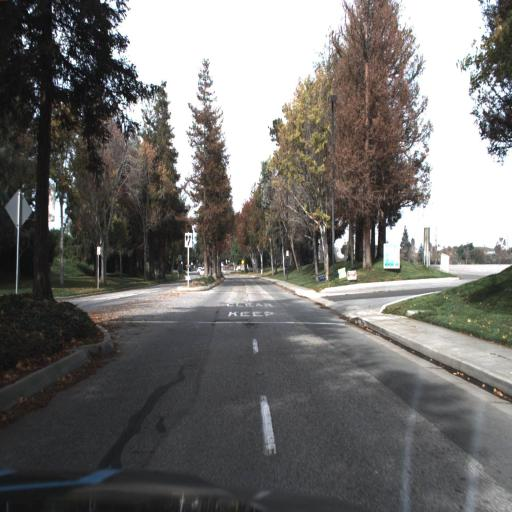car: (198, 267, 207, 278)
